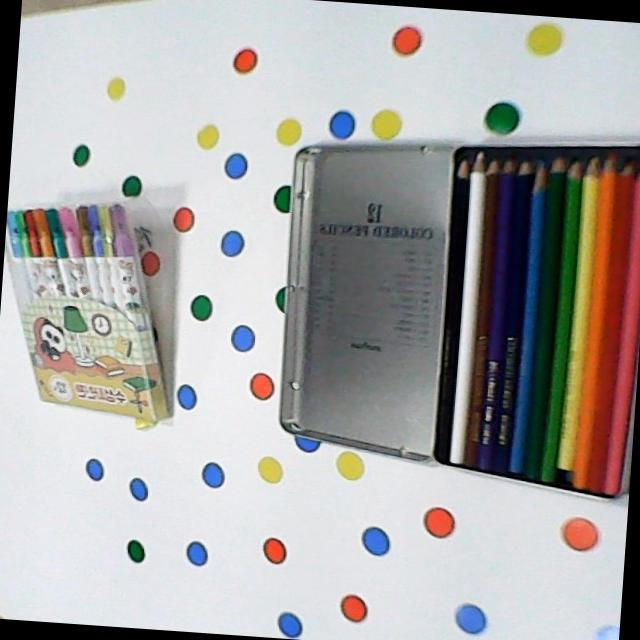color: (434, 124, 640, 520)
signpen: (0, 198, 178, 431)
